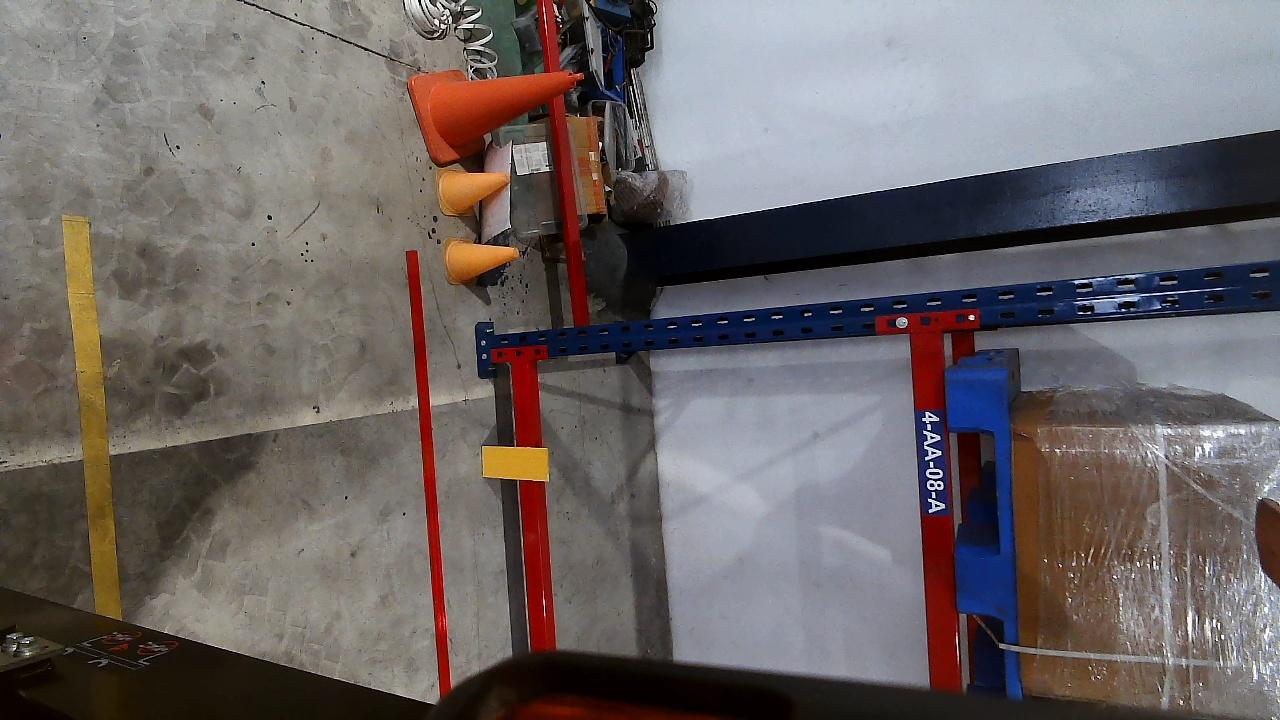h_rack: (908, 326, 962, 690), (509, 358, 555, 651)
orange_strip: (480, 446, 549, 480)
red_line: (409, 250, 452, 696)
small_pallet: (943, 367, 1019, 699)
yellow_line: (60, 213, 118, 618)
